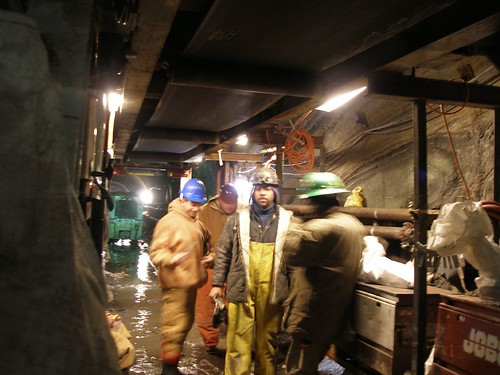person hardhat: (281, 170, 374, 374), (215, 163, 293, 375), (161, 176, 209, 375), (204, 180, 248, 362)
